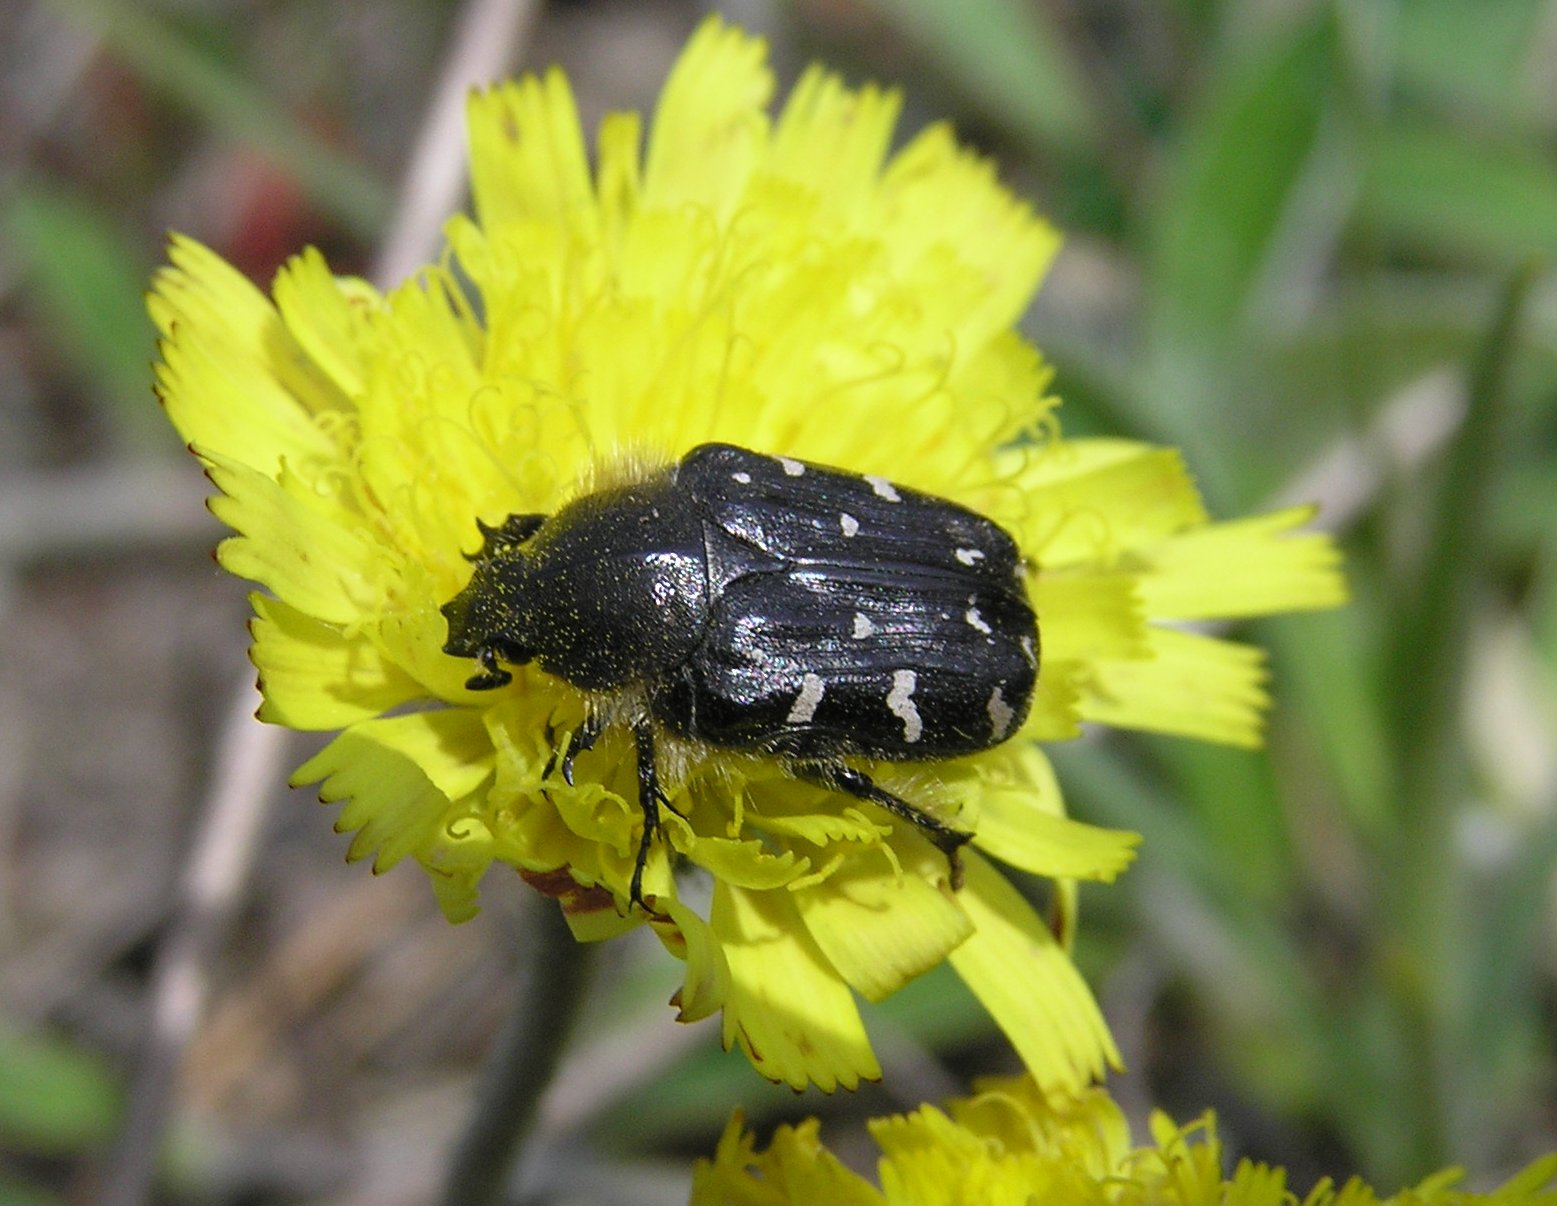Tropinota_hirta: (415, 403, 1094, 923)
